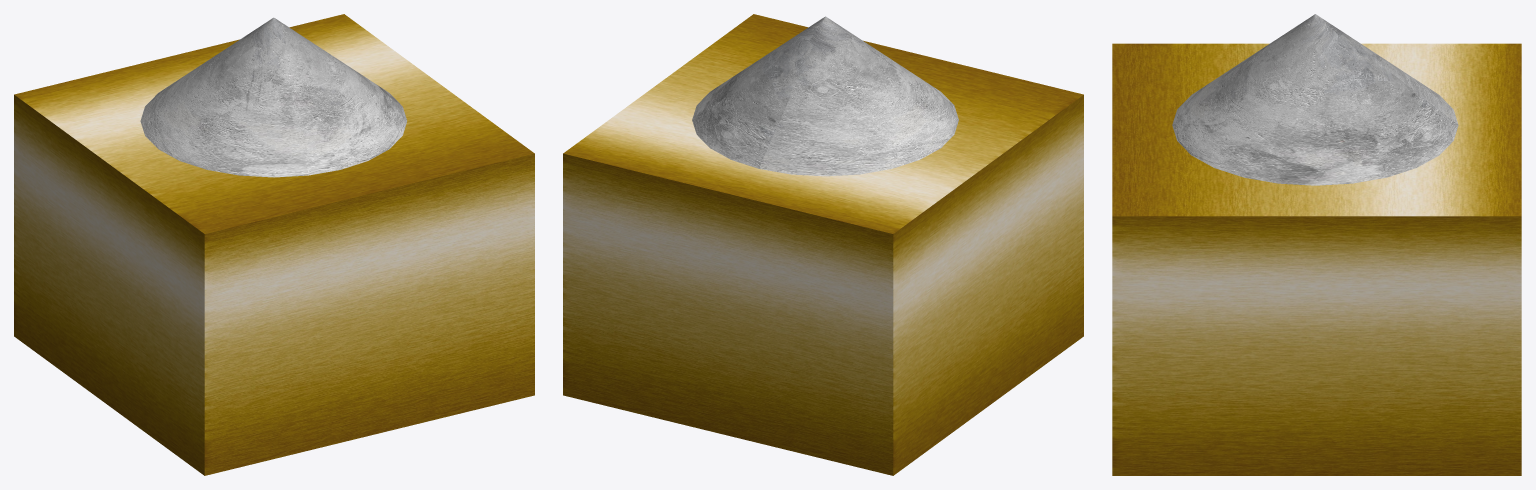
The model's file is MURO_NIVEL_3.fbx.
The picture shows the model from 3 angles, left to right: view 1: azimuth 30°, elevation 25°; view 2: azimuth 150°, elevation 25°; view 3: azimuth 270°, elevation 25°; orthographic projection. The views are drawn at different scales.
Visible parts, largest first — view 1: Box001, Cone001; view 2: Box001, Cone001; view 3: Box001, Cone001.
Boxes of the visible parts, left/top/right/bottom form: Box001: left=14, top=14, right=534, bottom=475; Cone001: left=140, top=17, right=407, bottom=177; Box001: left=563, top=14, right=1083, bottom=475; Cone001: left=692, top=16, right=958, bottom=176; Box001: left=1112, top=43, right=1521, bottom=475; Cone001: left=1172, top=14, right=1458, bottom=185.
Bounding box in the file's own units: 1 × 1.01 × 1.
2 materials, 2 textured.
